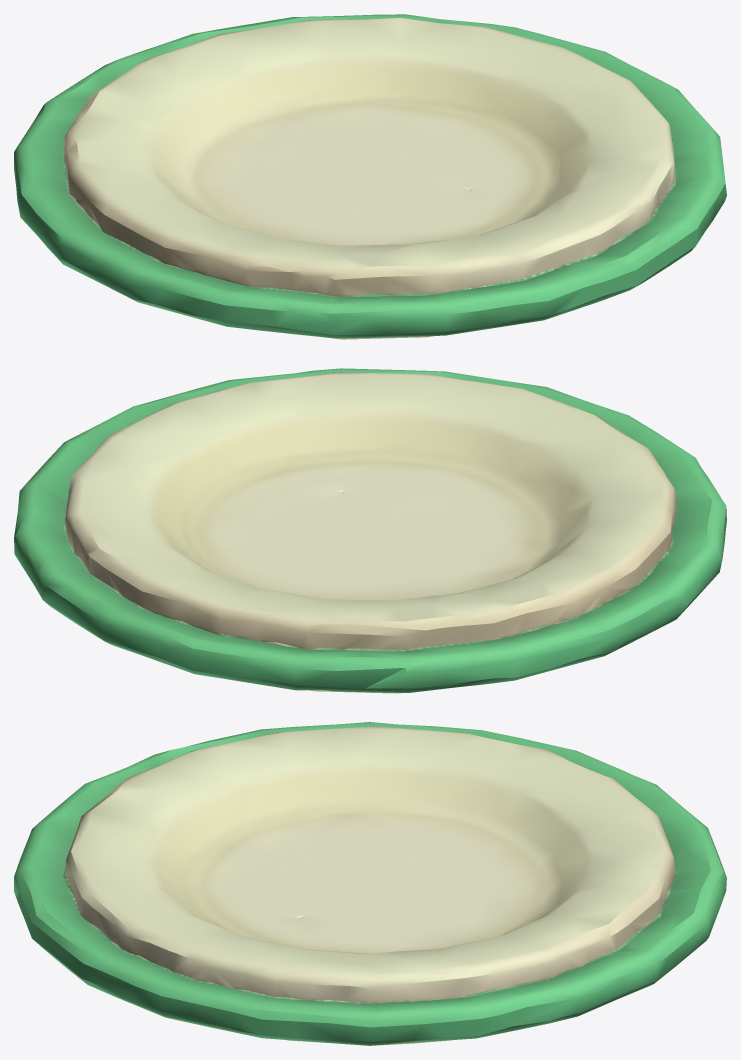
Rendered from TT_PlateMint.glb.
3 views of the same model, one above another, from view 1: azimuth 30°, elevation 25°; view 2: azimuth 150°, elevation 25°; view 3: azimuth 270°, elevation 25° (orthographic).
Visible parts, largest first — view 1: geometry_0; view 2: geometry_0; view 3: geometry_0.
Boxes of the visible parts, x1,y1,x2,y2 form: geometry_0: (14,14,726,339); geometry_0: (14,368,726,693); geometry_0: (14,722,726,1045).
Bounding box in the file's own units: 1 × 0.1395 × 0.9999.
1 material, 1 textured.
